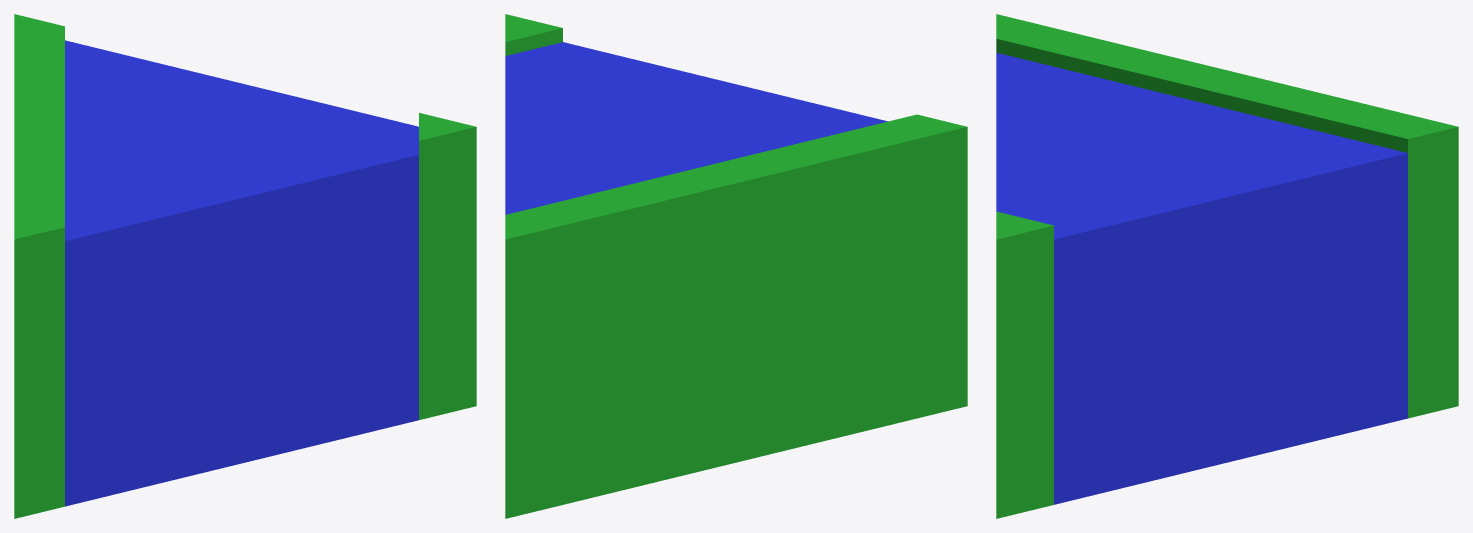
File: tile-infrastructure-river_face.glb
3 views of the same model, side by side, from view 1: azimuth 30°, elevation 25°; view 2: azimuth 150°, elevation 25°; view 3: azimuth 270°, elevation 25° (orthographic).
Visible parts, largest first — view 1: tile-infrastructure-river_face; view 2: tile-infrastructure-river_face; view 3: tile-infrastructure-river_face.
Part boxes in pixels (bbox=[...]): tile-infrastructure-river_face: bbox=[14, 14, 476, 518]; tile-infrastructure-river_face: bbox=[505, 14, 967, 518]; tile-infrastructure-river_face: bbox=[996, 14, 1458, 518].
Size of the model in its own units: 0.866 by 0.5 by 0.75.
